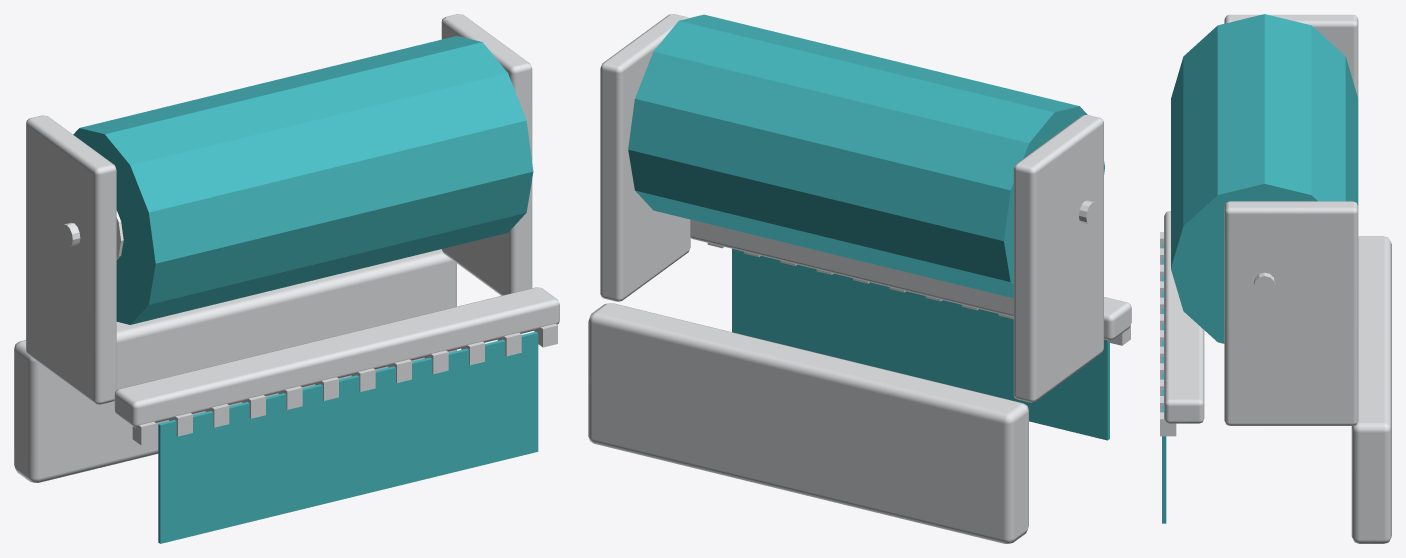
File: barrier-film-roll.glb
The picture shows the model from 3 angles, left to right: view 1: azimuth 30°, elevation 25°; view 2: azimuth 150°, elevation 25°; view 3: azimuth 270°, elevation 25°; orthographic projection. The views are drawn at different scales.
Parts seen in each view (by area): view 1: barrier-film-roll; view 2: barrier-film-roll; view 3: barrier-film-roll.
Part boxes in pixels (box(x1,y1,x2,y2)): barrier-film-roll: box(14, 14, 559, 543); barrier-film-roll: box(588, 14, 1131, 543); barrier-film-roll: box(1160, 14, 1391, 543).
Size of the model in its own units: 0.36 by 0.29 by 0.173.
